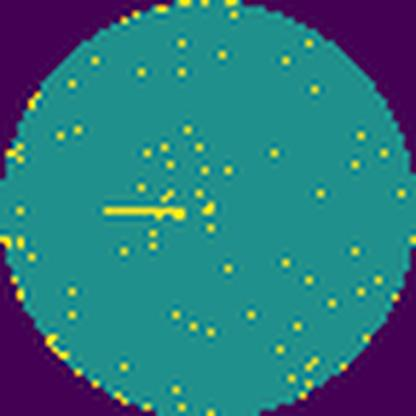Scratch: (99, 200, 190, 226)
